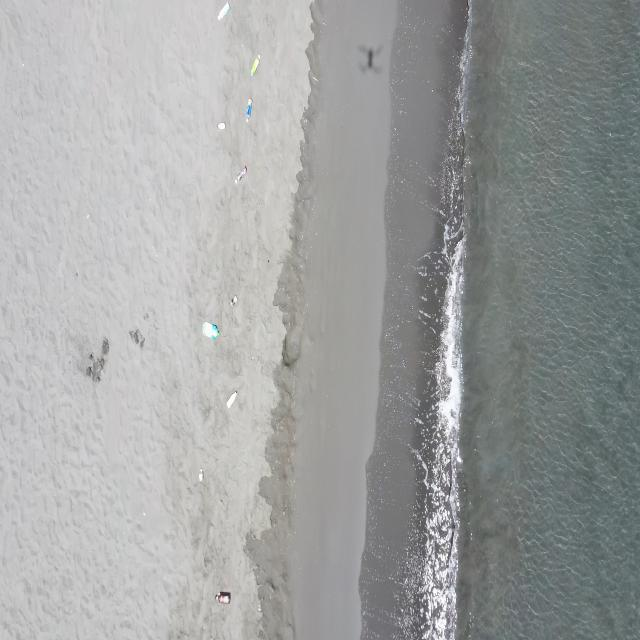plastic-bottle: (201, 319, 220, 339), (216, 1, 231, 21), (214, 591, 232, 606), (234, 166, 248, 184), (225, 390, 237, 410), (245, 95, 253, 124), (250, 55, 260, 78), (230, 294, 238, 308), (217, 120, 227, 130), (198, 468, 204, 482)
